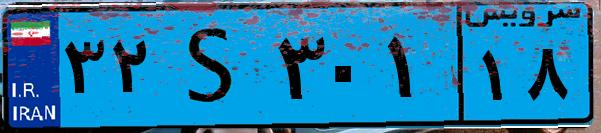0: (330, 28, 385, 110)
1: (385, 28, 445, 110), (475, 38, 525, 113)
2: (110, 28, 158, 98)
3: (270, 28, 330, 110), (57, 26, 110, 100)
8: (525, 38, 570, 115)
S: (158, 12, 270, 120)
